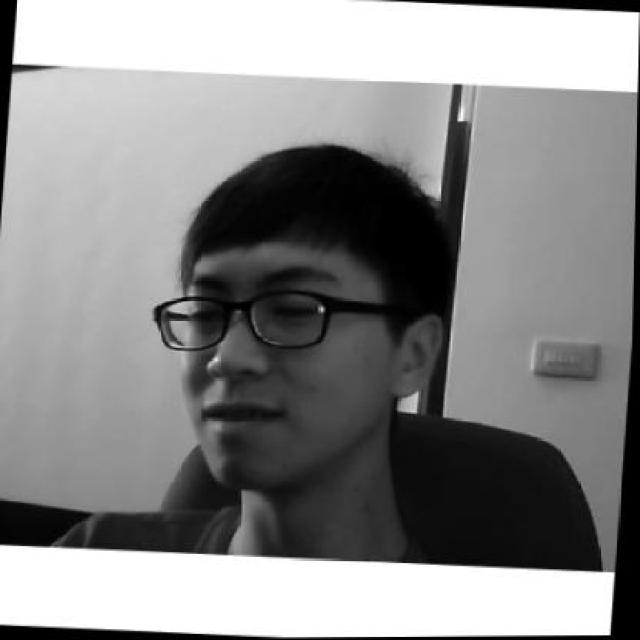attentif: (148, 135, 457, 500)
